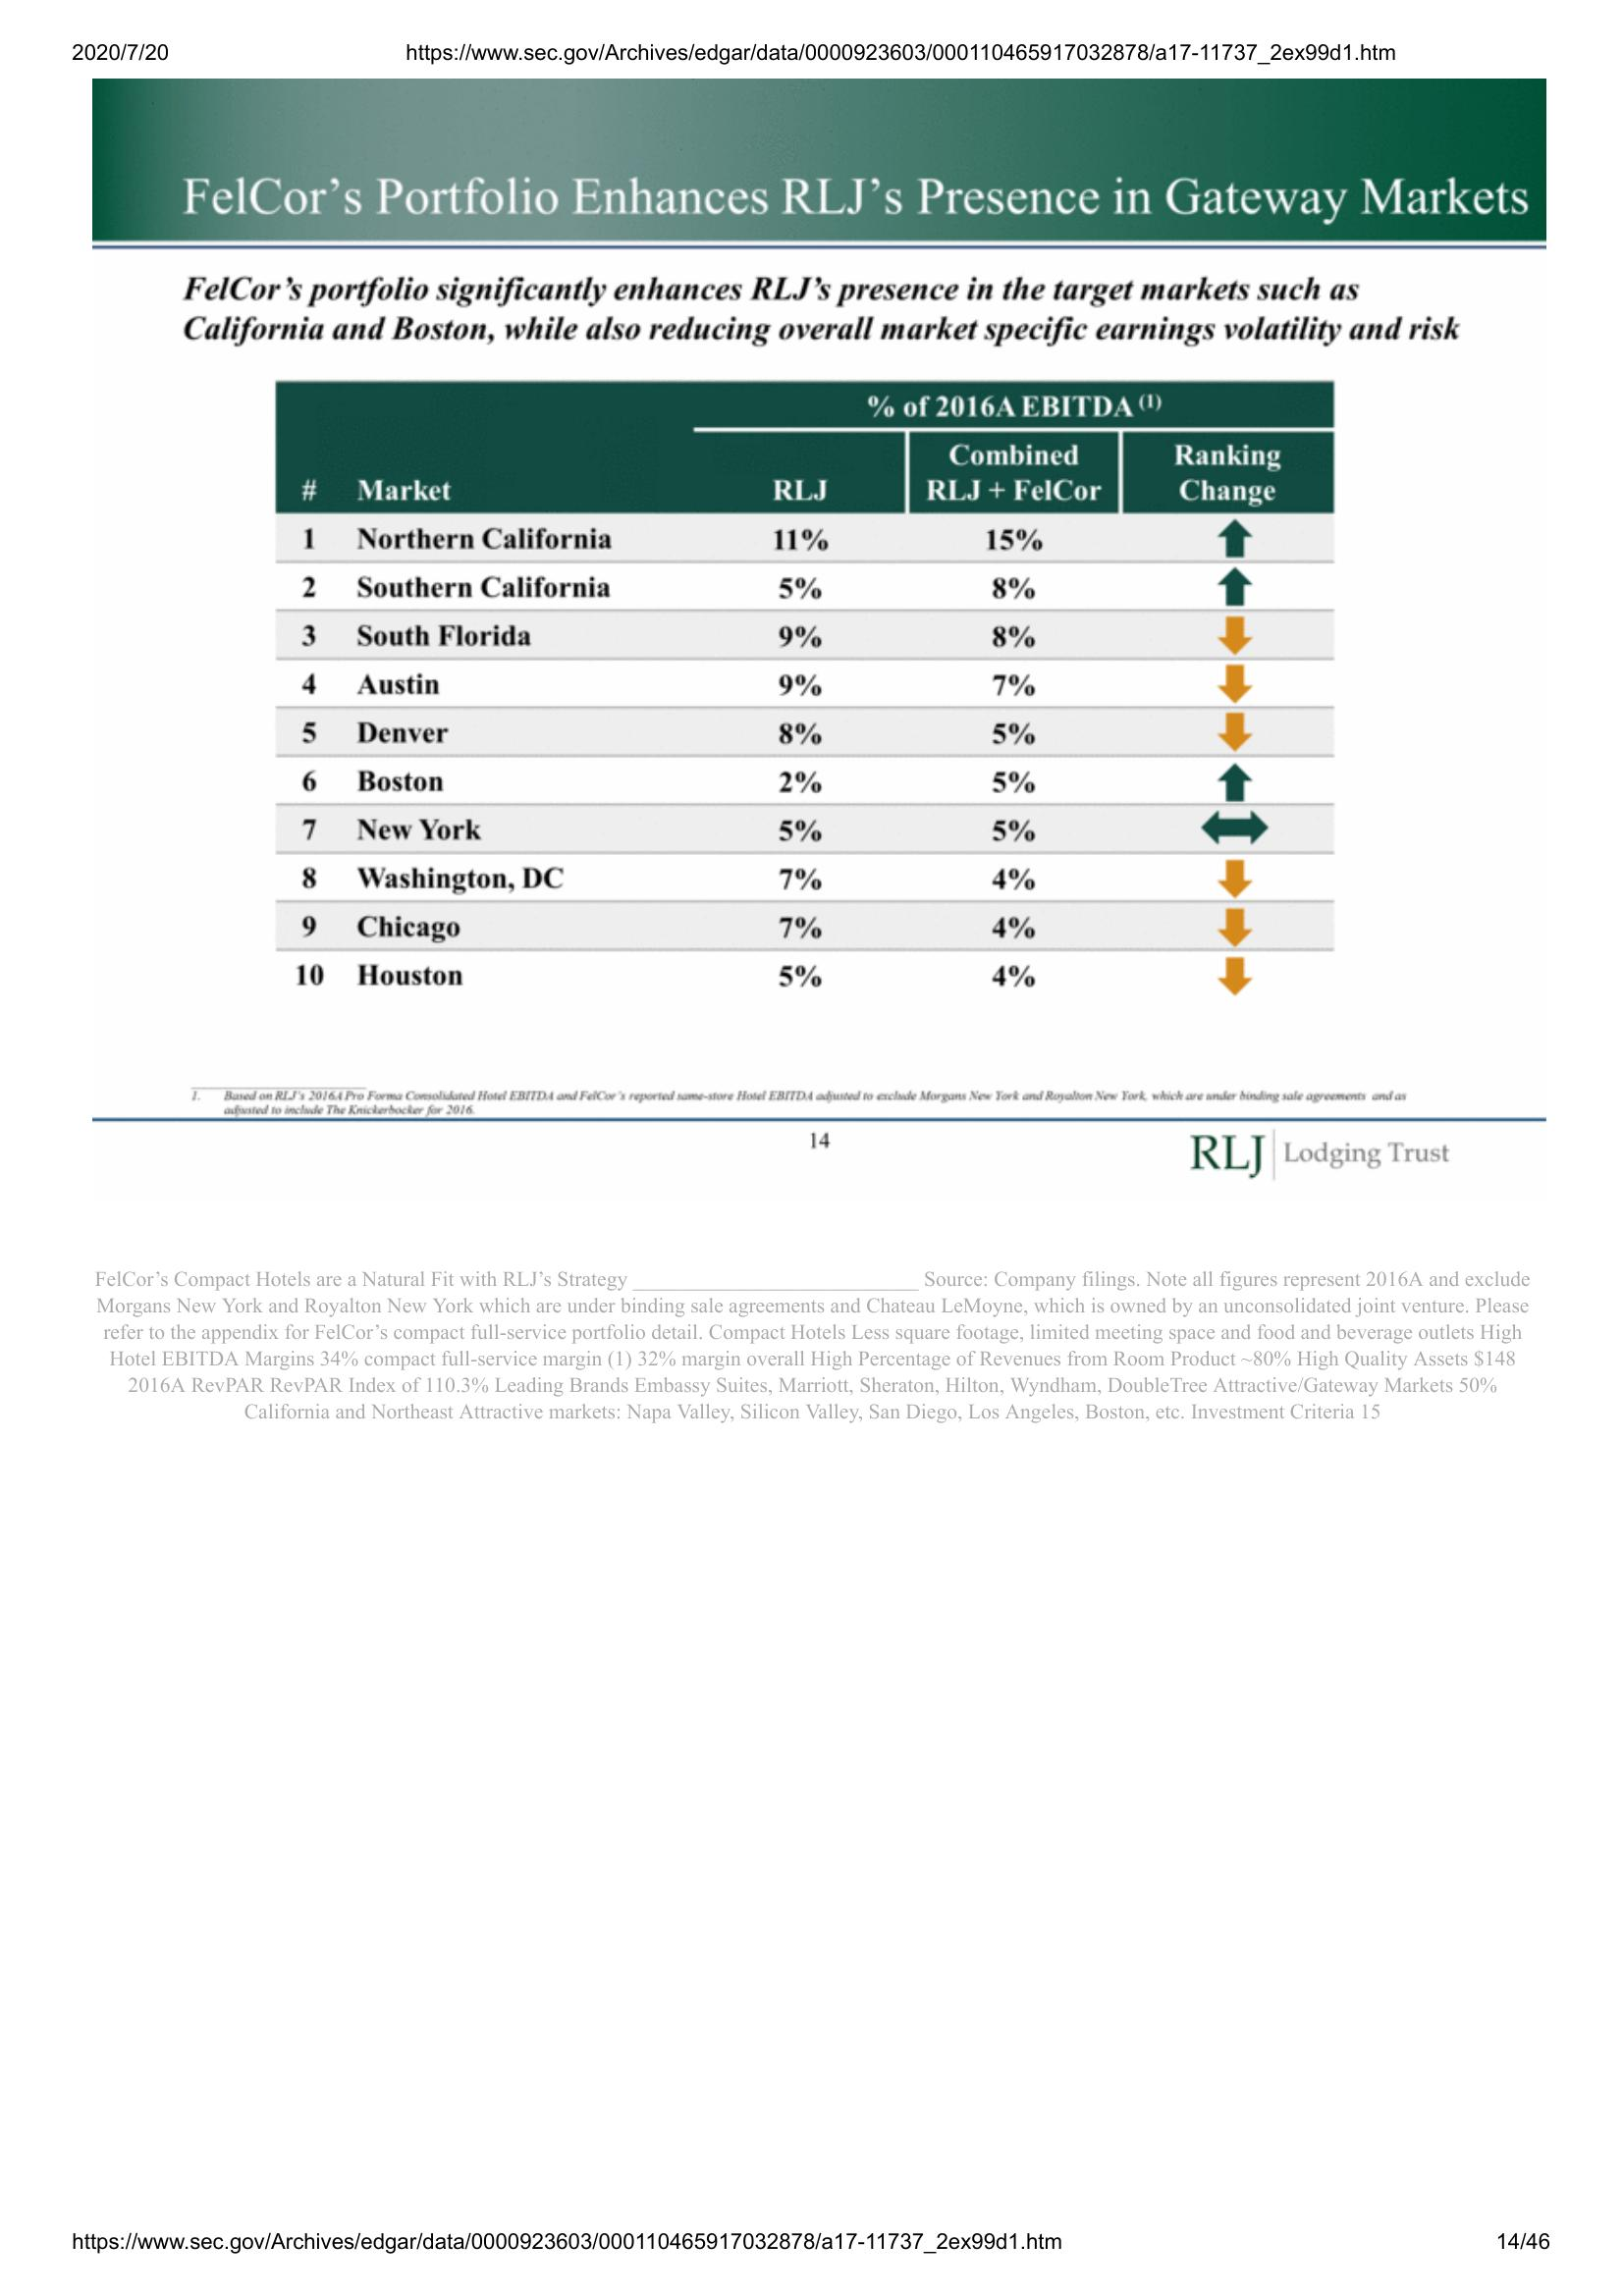table: (279, 379, 1337, 1013)
